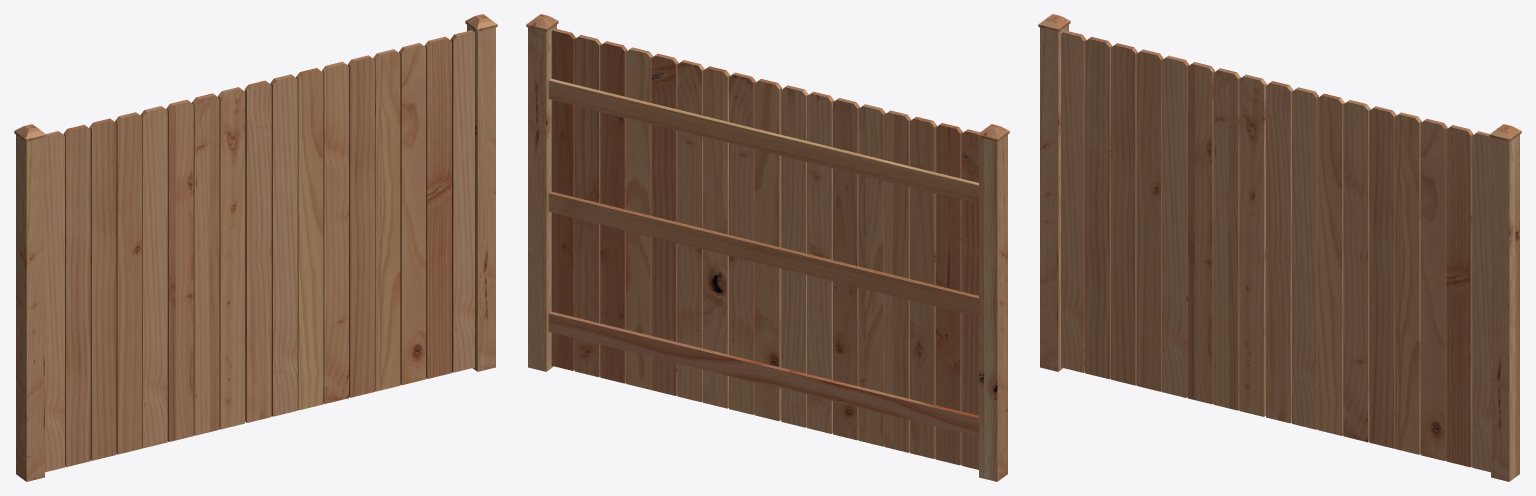
File: Douglas_Fir_Fence_.fbx
3 views of the same model, side by side, from view 1: azimuth 30°, elevation 25°; view 2: azimuth 150°, elevation 25°; view 3: azimuth 330°, elevation 25° (orthographic).
Visible parts, largest first — view 1: Douglas_Fence_, Douglas_Pillar_02, Douglas_Pillar_01; view 2: Douglas_Fence_, Douglas_Pillar_02, Douglas_Pillar_01; view 3: Douglas_Fence_, Douglas_Pillar_01, Douglas_Pillar_02.
Part boxes in pixels (x1,y1,x2,y2): Douglas_Fence_: (45,30,474,472); Douglas_Pillar_02: (14,124,46,481); Douglas_Pillar_01: (465,14,497,371); Douglas_Fence_: (548,28,979,469); Douglas_Pillar_02: (977,124,1009,481); Douglas_Pillar_01: (526,14,558,371); Douglas_Fence_: (1061,30,1490,472); Douglas_Pillar_01: (1489,124,1521,481); Douglas_Pillar_02: (1038,14,1070,371).
Size of the model in its own units: 261 by 185 by 11.35.
Materials: 1 (1 with a texture image).
